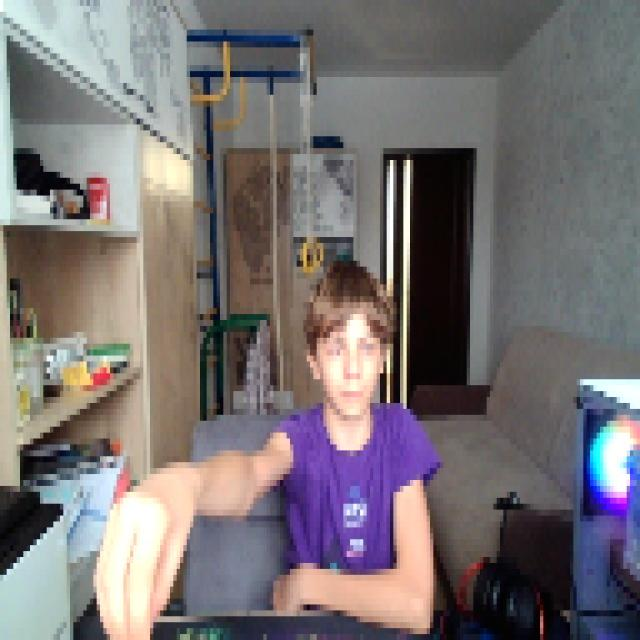left_click: (90, 480, 187, 634)
